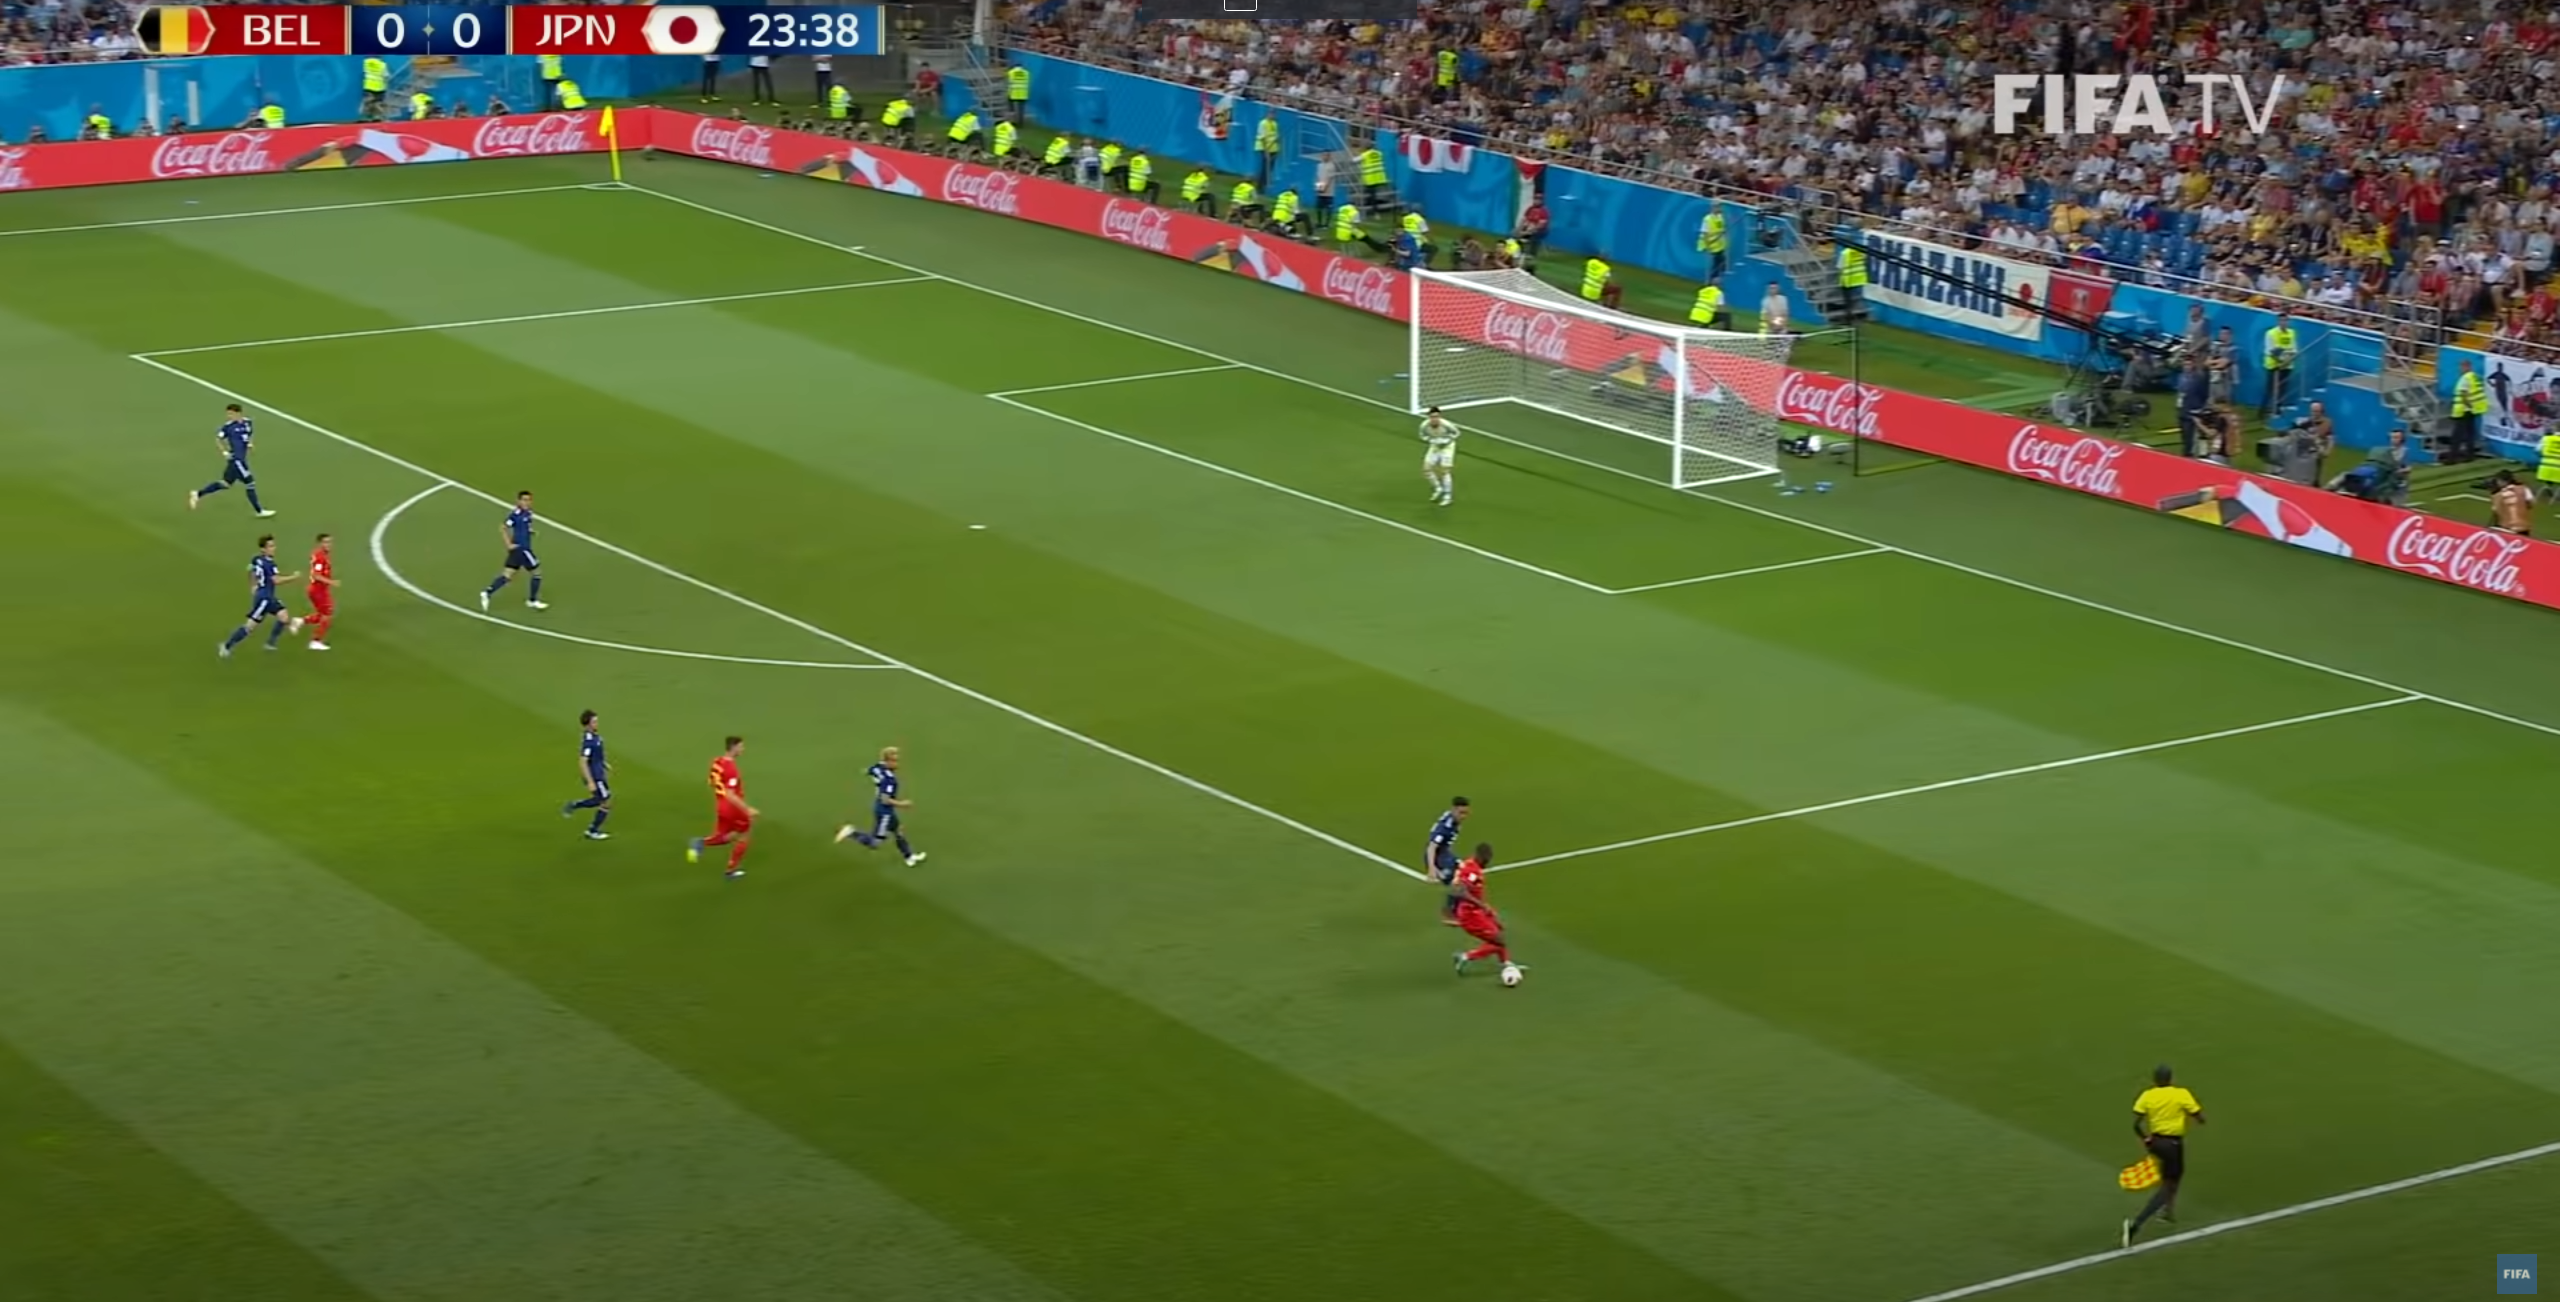Ball: (1496, 963, 1531, 993)
Goalie: (1416, 405, 1461, 505)
Referee: (2118, 1065, 2206, 1247)
Team A: (687, 737, 760, 880), (1453, 844, 1527, 980), (291, 535, 342, 654)
Team B: (833, 746, 928, 869), (217, 535, 304, 658), (188, 405, 274, 520), (480, 492, 546, 613), (563, 711, 614, 844), (1423, 795, 1471, 927)
